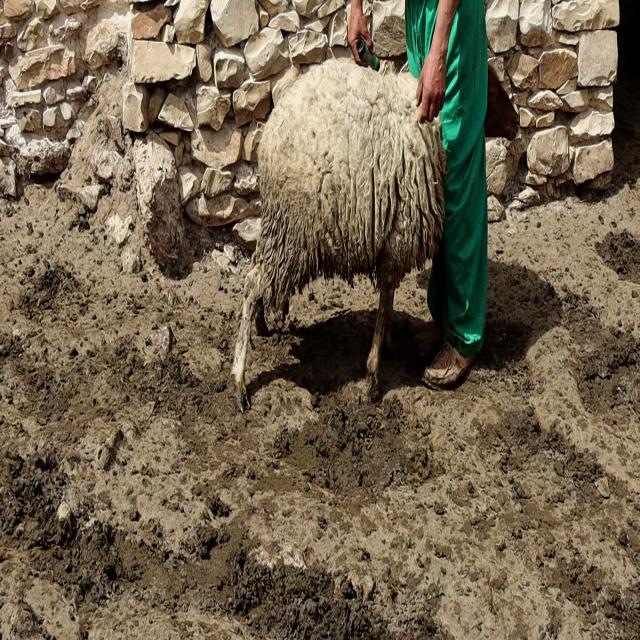Score_4: (232, 60, 445, 410)
